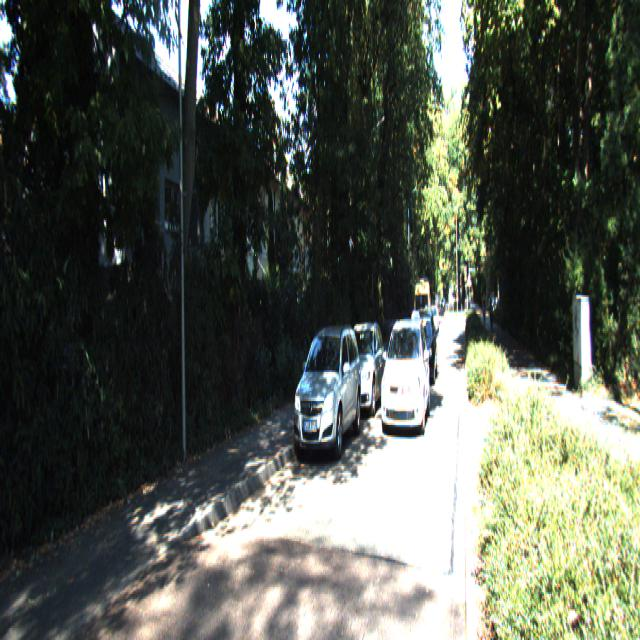Car: (290, 319, 360, 468), (378, 316, 432, 443), (336, 318, 386, 418), (408, 310, 438, 388), (375, 316, 404, 385), (413, 276, 431, 345), (406, 306, 423, 354)
